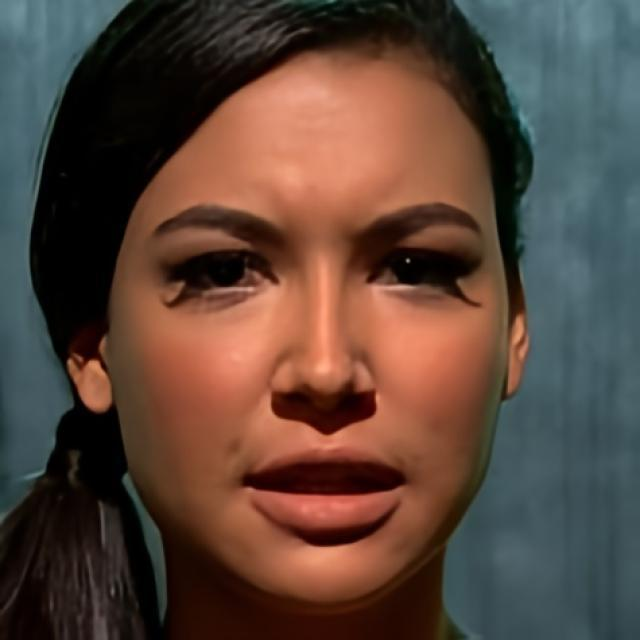disgust: (109, 39, 508, 609)
